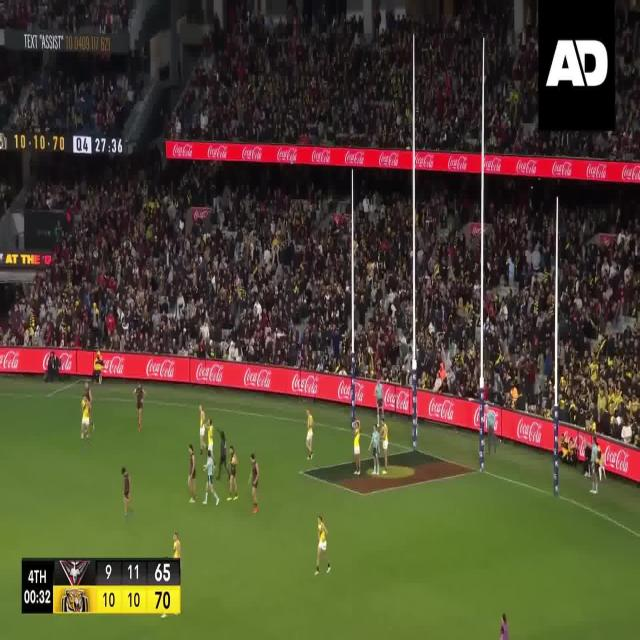crowd: (0, 176, 638, 441), (170, 14, 615, 157), (1, 70, 121, 130), (0, 0, 124, 33), (617, 6, 640, 154)
